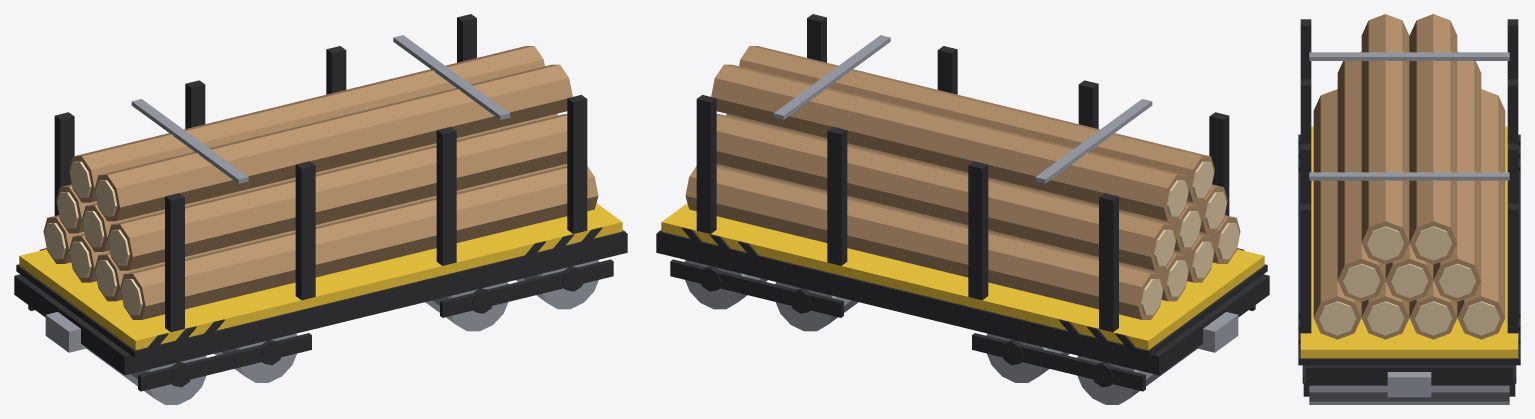
Rendered from Cargo_wood.fbx.
The picture shows the model from 3 angles, left to right: view 1: azimuth 30°, elevation 25°; view 2: azimuth 150°, elevation 25°; view 3: azimuth 270°, elevation 25°; orthographic projection. The views are drawn at different scales.
Visible parts, largest first — view 1: Cargo_wood; view 2: Cargo_wood; view 3: Cargo_wood.
Boxes of the visible parts, left/top/right/bottom form: Cargo_wood: left=14, top=14, right=627, bottom=404; Cargo_wood: left=656, top=14, right=1269, bottom=404; Cargo_wood: left=1298, top=14, right=1520, bottom=404.
Size of the model in its own units: 5.24 by 2 by 2.04.
